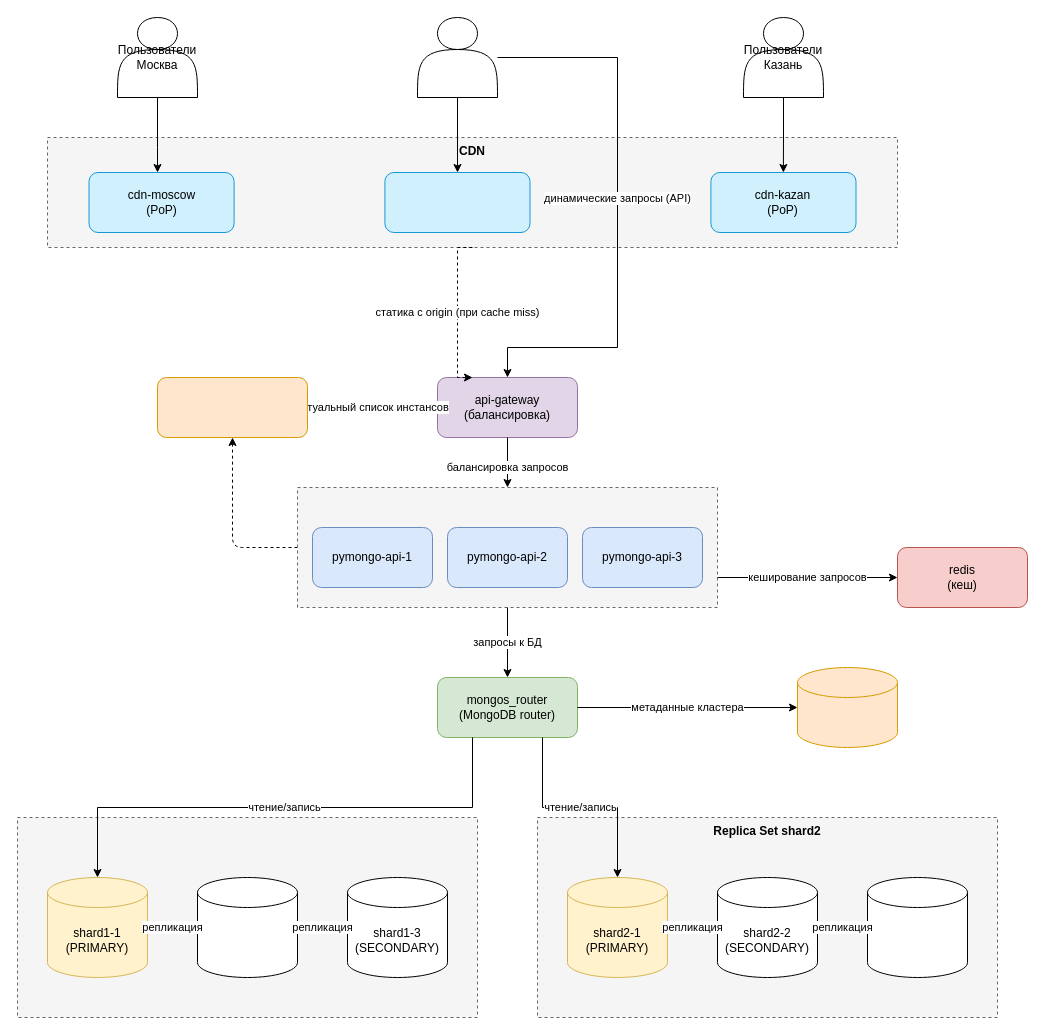
Image size: 1045x1035. Some labels were removed from this diagram. The box of each missing label's shape, as (x1, y1, x2, y2) in pixels:
cdn-ulyanovsk (PoP): (384, 172, 530, 232)
configSrv (config server): (796, 666, 898, 748)
consul (Service Discovery): (156, 376, 308, 438)
Replica Set shard1: (16, 816, 478, 1018)
shard1-2 (SECONDARY): (196, 876, 298, 978)
shard2-3 (SECONDARY): (866, 876, 968, 978)
Инстансы приложения: (296, 486, 718, 608)
Пользователи Ульяновск: (416, 16, 498, 98)
